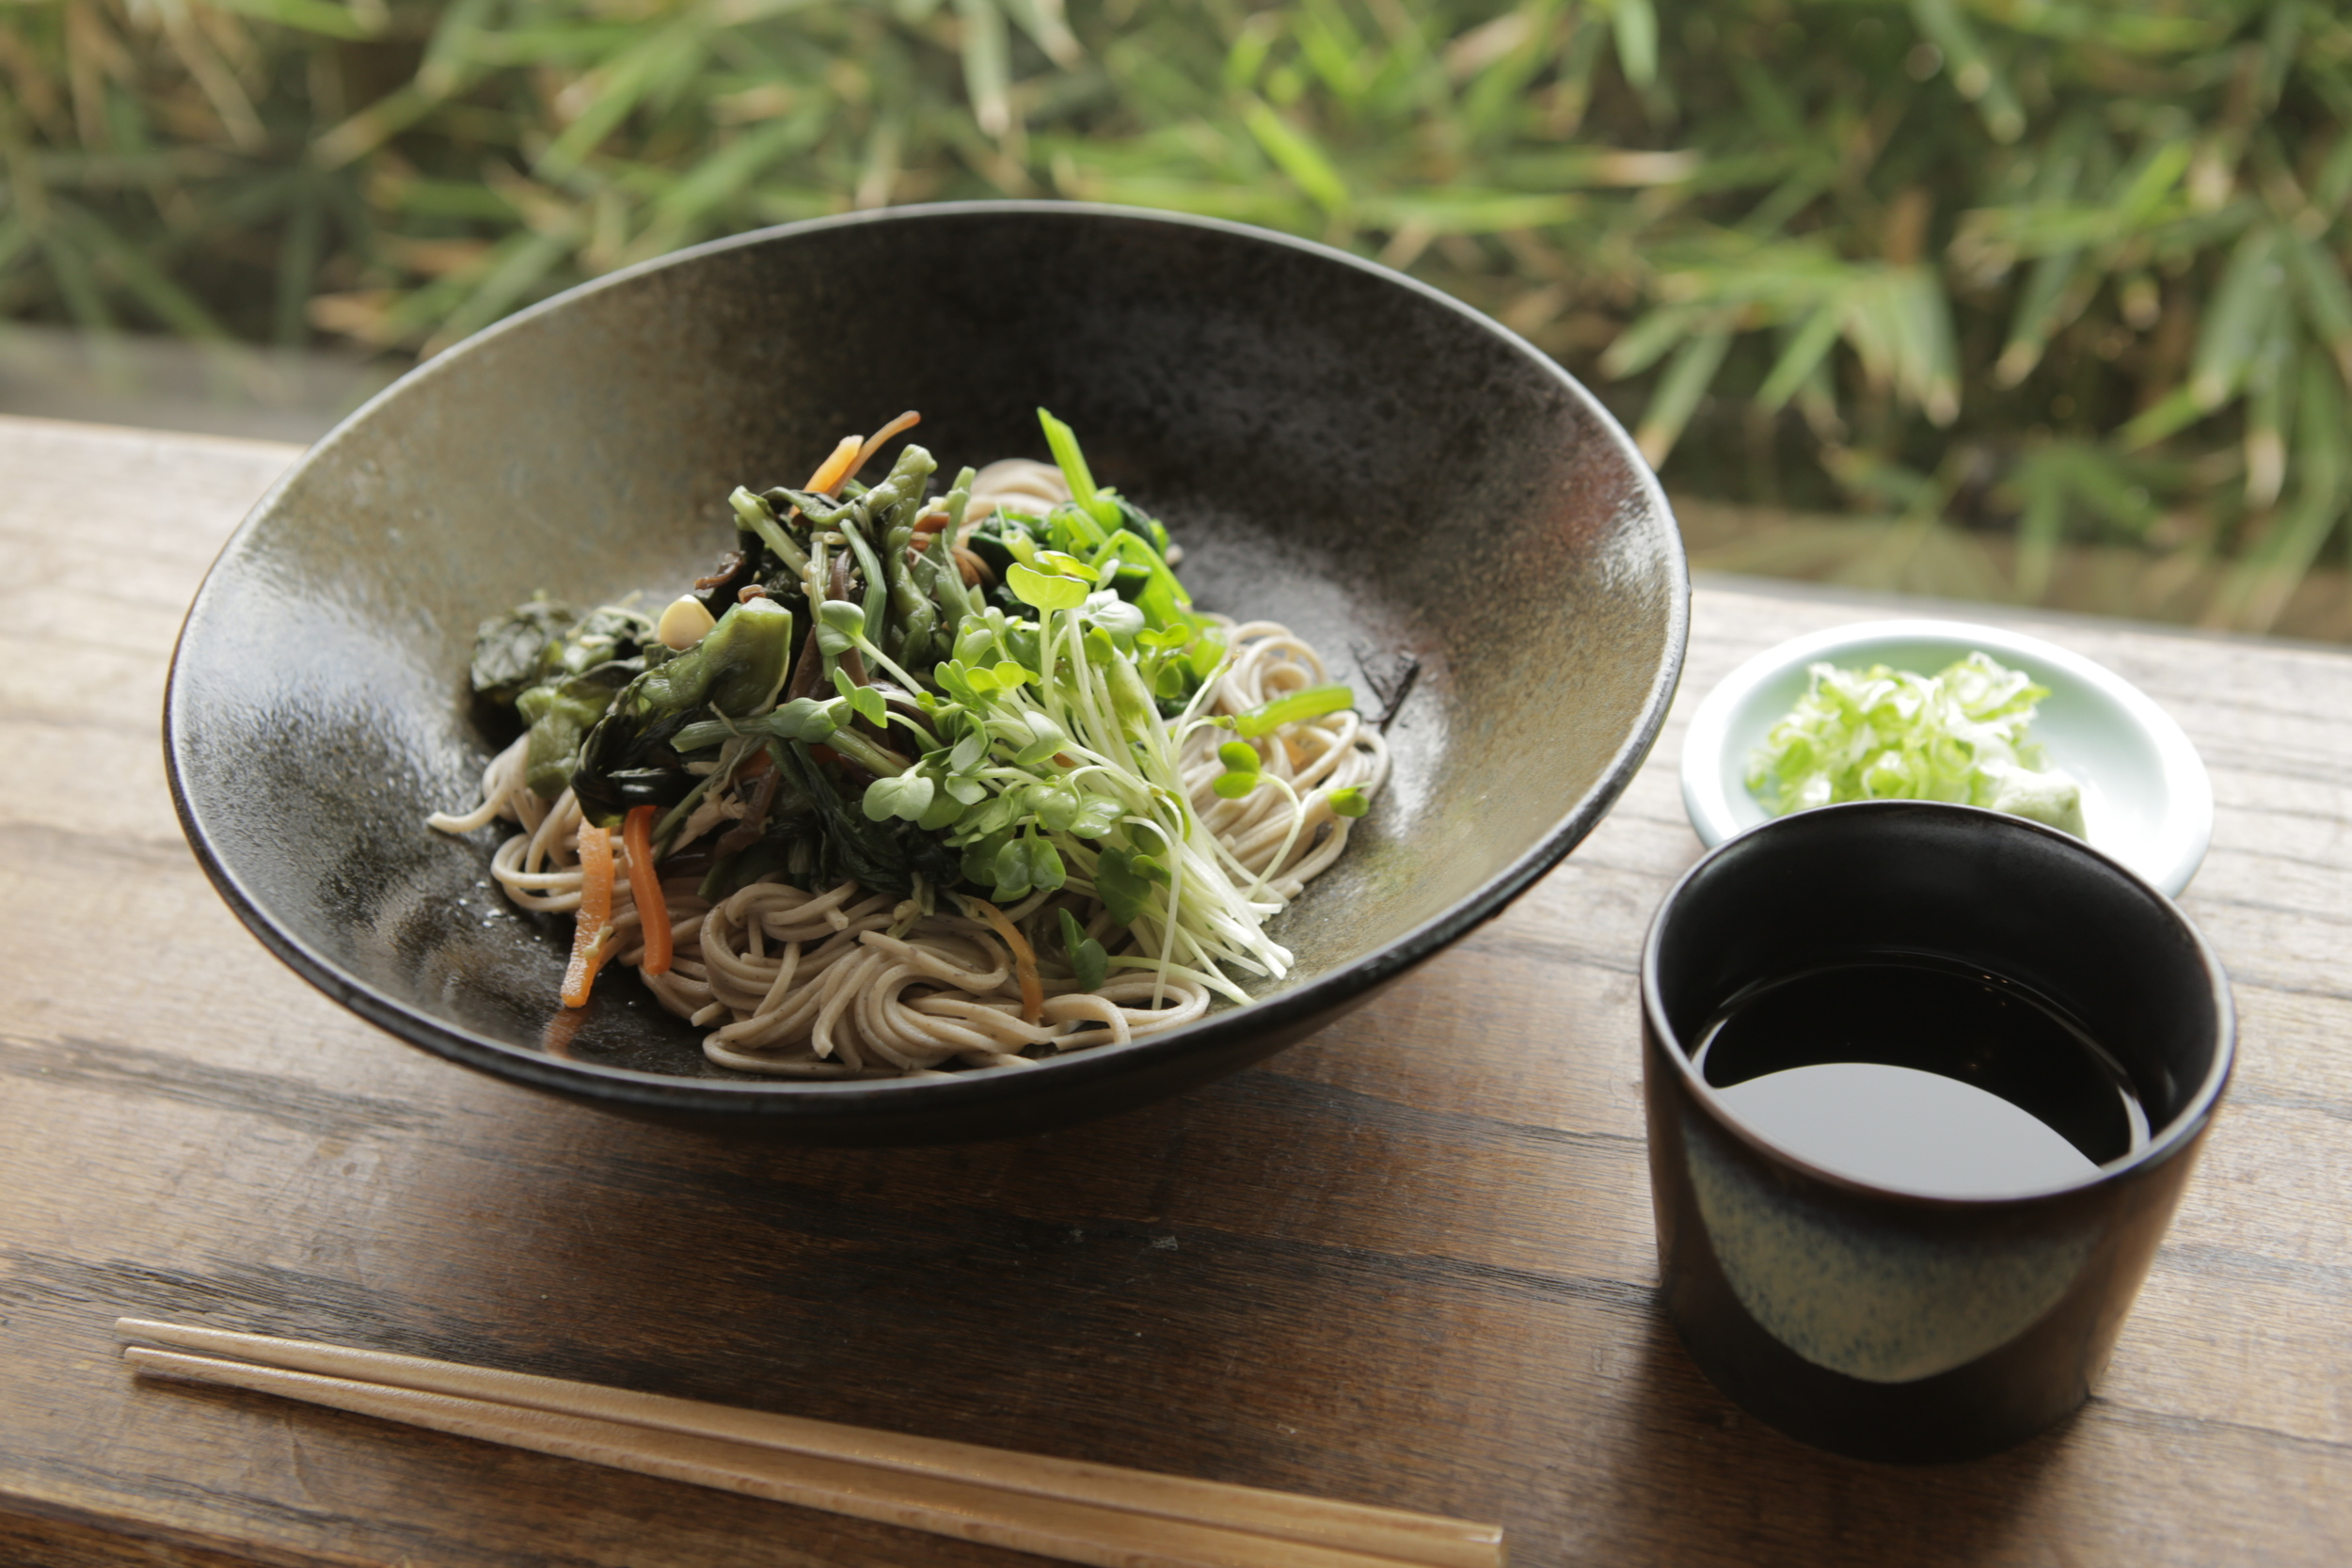Soba: (429, 462, 1517, 1087)
